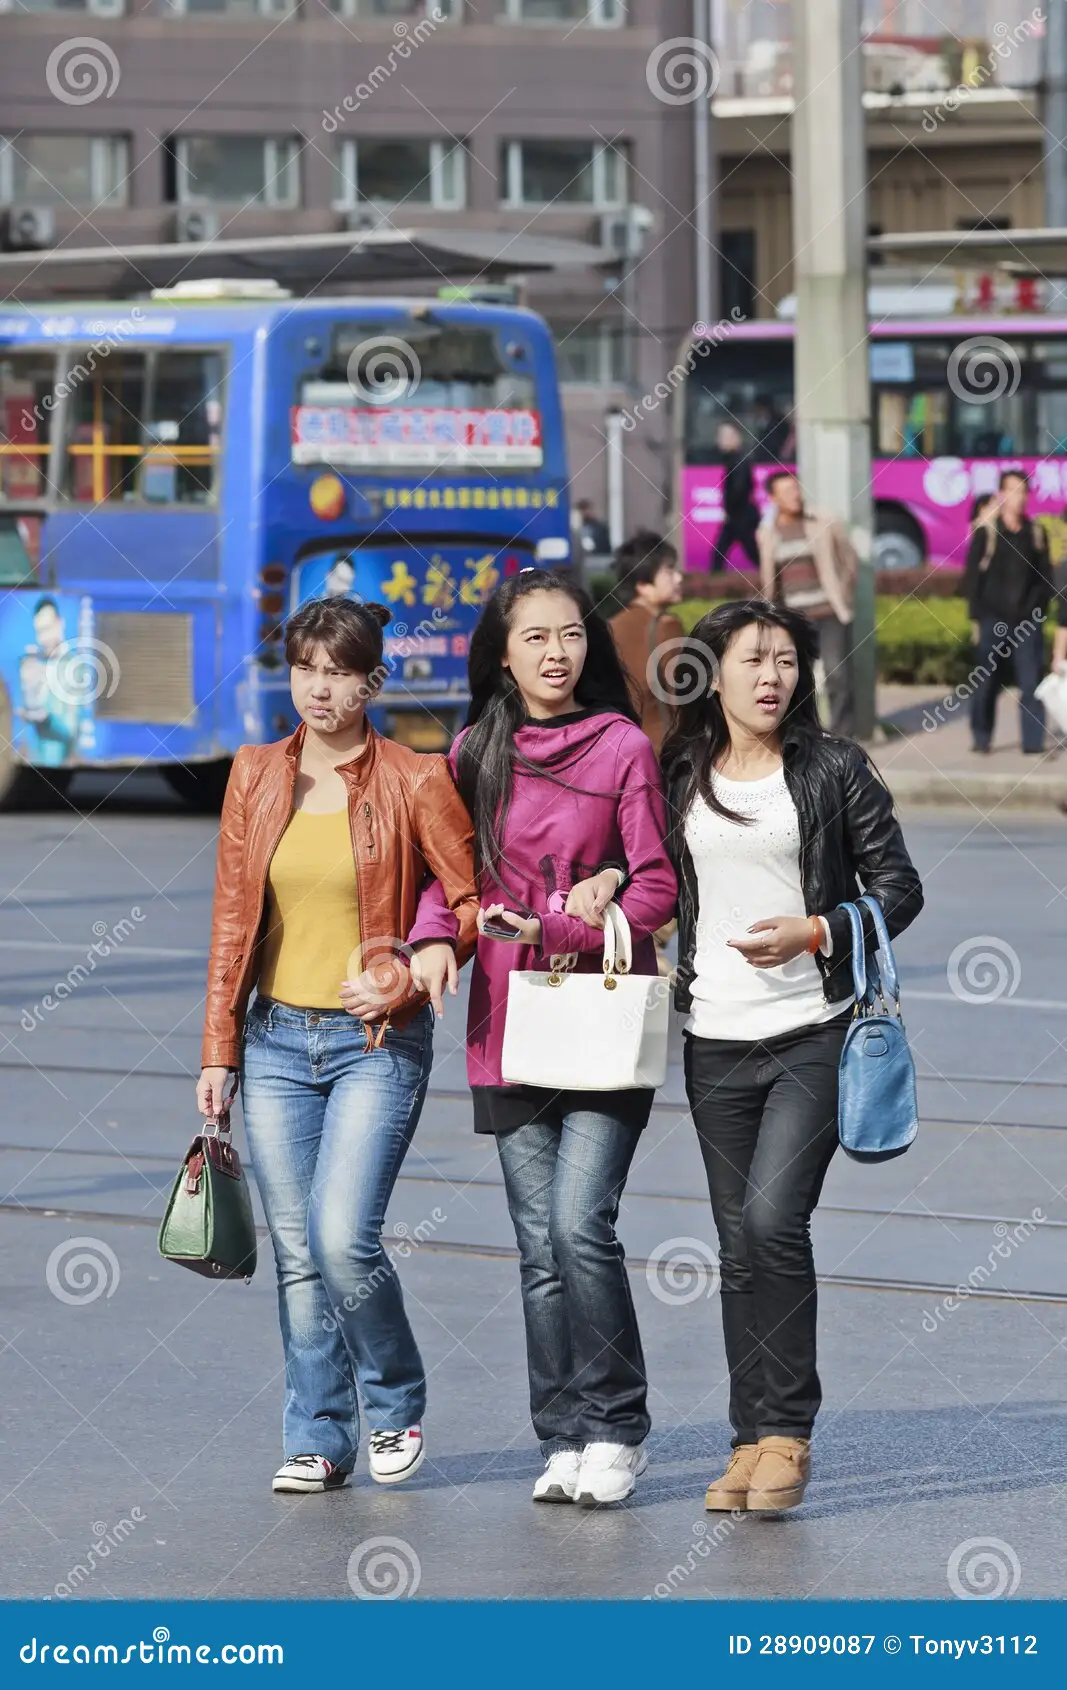car: (1, 281, 574, 813), (671, 320, 1067, 581)
person: (192, 599, 465, 1490), (667, 599, 928, 1518), (455, 572, 678, 1513), (755, 458, 860, 722), (960, 465, 1051, 752), (708, 420, 762, 568)
